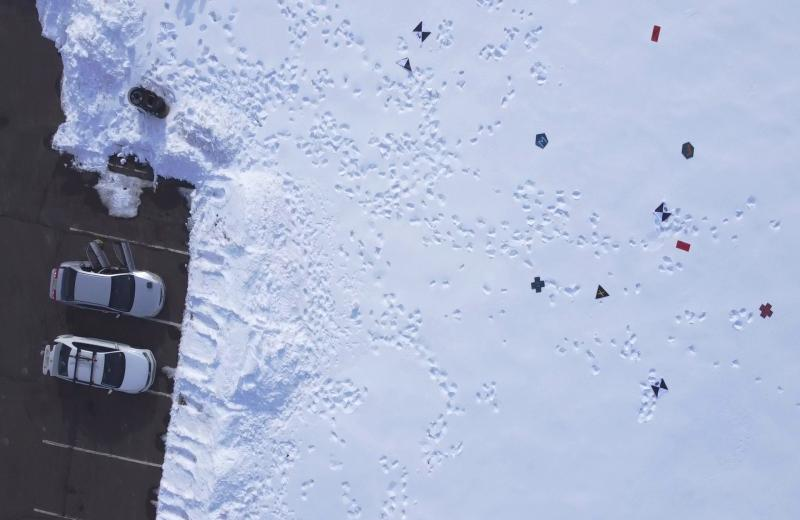Cross: (529, 276, 546, 294), (758, 302, 774, 320)
Hexagon: (680, 141, 696, 160)
Pentagon: (532, 130, 550, 150)
Rectangle: (648, 24, 664, 44), (675, 237, 691, 254)
Triangle: (594, 282, 610, 302)
